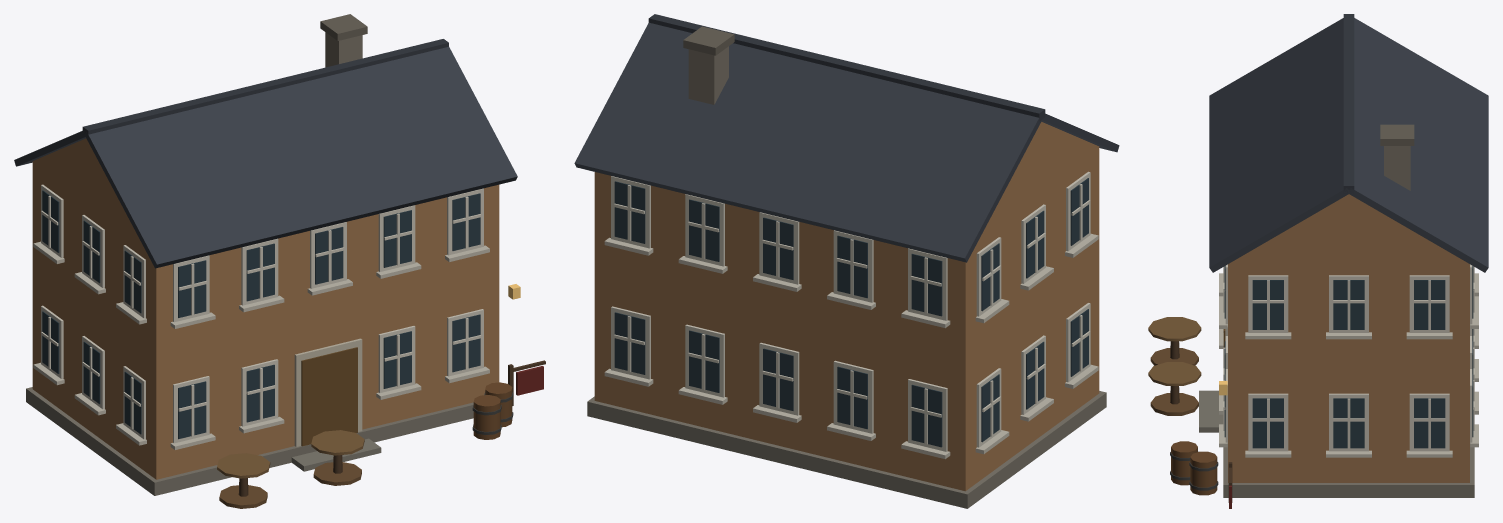
Rendered from procedural_inn@5.glb.
3 renders of one model, left to right at view 1: azimuth 30°, elevation 25°; view 2: azimuth 150°, elevation 25°; view 3: azimuth 270°, elevation 25°, orthographic. The views are drawn at different scales.
Parts seen in each view (by area): view 1: part_0; view 2: part_0; view 3: part_0.
Part boxes in pixels (bbox=[...]): part_0: bbox=[14, 14, 545, 508]; part_0: bbox=[574, 14, 1119, 508]; part_0: bbox=[1148, 14, 1488, 508].
Size of the model in its own units: 9.31 by 7.56 by 7.04.
